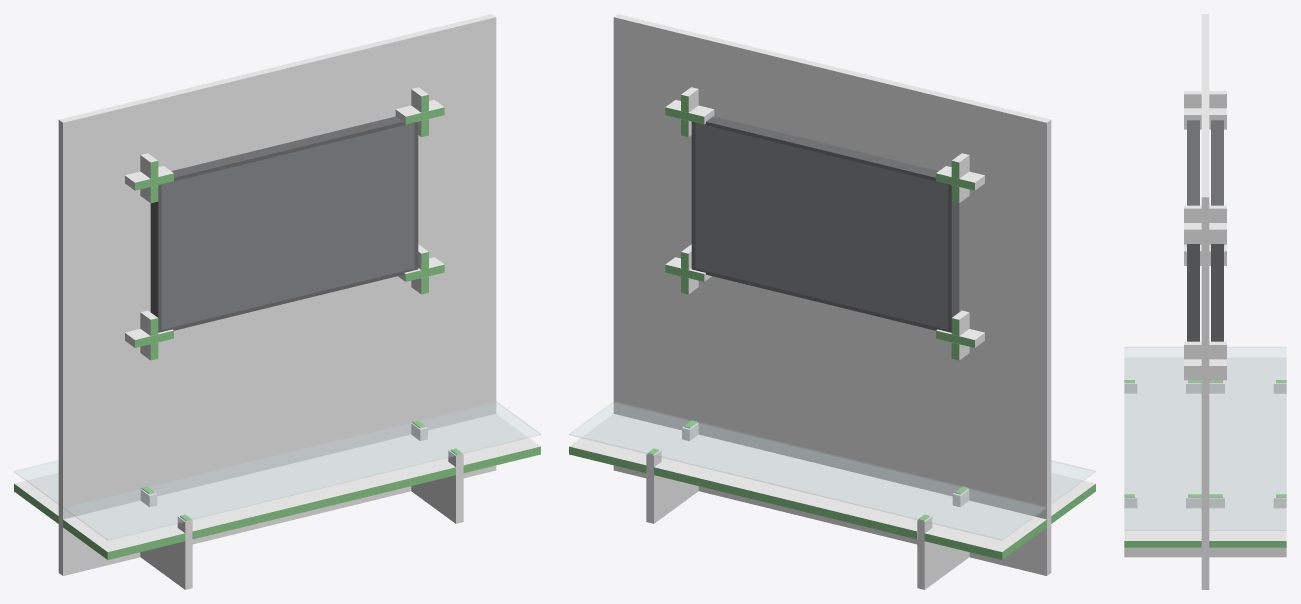
Rendered from 05-computer.glb.
3 renders of one model, left to right at view 1: azimuth 30°, elevation 25°; view 2: azimuth 150°, elevation 25°; view 3: azimuth 270°, elevation 25°, orthographic. The views are drawn at different scales.
Visible parts, largest first — view 1: 通高整板｜2000 × 2000 mm, 正面｜电子屏｜正面显示区, 前平台｜齐平插接, 前平台玻璃｜6 mm｜四处边槽, 正面｜电子屏占位｜1200 × 675 × 60 mm, 右横撑｜半搭槽, 左横撑｜半搭槽, 后平台｜齐平插接, 后平台玻璃｜6 mm｜四处边槽, 正面左上｜直横扣, 正面右上｜直横扣; view 2: 通高整板｜2000 × 2000 mm, 背面｜电子屏｜正面显示区, 后平台｜齐平插接, 后平台玻璃｜6 mm｜四处边槽, 背面｜电子屏占位｜1200 × 675 × 60 mm, 右横撑｜半搭槽, 左横撑｜半搭槽, 前平台｜齐平插接, 前平台玻璃｜6 mm｜四处边槽, 背面左上｜直横扣, 背面右上｜直横扣; view 3: 前平台｜齐平插接, 后平台｜齐平插接, 前平台玻璃｜6 mm｜四处边槽, 后平台玻璃｜6 mm｜四处边槽, 通高整板｜2000 × 2000 mm, 右横撑｜半搭槽, 正面｜电子屏占位｜1200 × 675 × 60 mm, 背面｜电子屏占位｜1200 × 675 × 60 mm, 右下｜双面贯穿竖榫, 右上｜双面贯穿竖榫, 左横撑｜半搭槽, 左上｜双面贯穿竖榫 (+6 smaller).
Boxes of the visible parts, <box> form: 通高整板｜2000 × 2000 mm: <box>58,14,496,575</box>; 正面｜电子屏｜正面显示区: <box>161,123,414,329</box>; 前平台｜齐平插接: <box>63,414,540,559</box>; 前平台玻璃｜6 mm｜四处边槽: <box>63,401,540,540</box>; 正面｜电子屏占位｜1200 × 675 × 60 mm: <box>150,116,418,332</box>; 右横撑｜半搭槽: <box>411,420,463,523</box>; 左横撑｜半搭槽: <box>140,486,192,589</box>; 后平台｜齐平插接: <box>14,473,58,523</box>; 后平台玻璃｜6 mm｜四处边槽: <box>14,460,58,504</box>; 正面左上｜直横扣: <box>125,166,173,190</box>; 正面右上｜直横扣: <box>395,100,444,124</box>; 通高整板｜2000 × 2000 mm: <box>613,14,1051,575</box>; 背面｜电子屏｜正面显示区: <box>695,123,948,329</box>; 后平台｜齐平插接: <box>569,414,1046,559</box>; 后平台玻璃｜6 mm｜四处边槽: <box>569,401,1046,540</box>; 背面｜电子屏占位｜1200 × 675 × 60 mm: <box>691,116,959,332</box>; 右横撑｜半搭槽: <box>646,420,698,523</box>; 左横撑｜半搭槽: <box>917,486,969,589</box>; 前平台｜齐平插接: <box>1051,473,1095,523</box>; 前平台玻璃｜6 mm｜四处边槽: <box>1051,460,1095,504</box>; 背面左上｜直横扣: <box>936,166,984,190</box>; 背面右上｜直横扣: <box>665,100,714,124</box>; 前平台｜齐平插接: <box>1124,357,1201,547</box>; 后平台｜齐平插接: <box>1209,357,1286,547</box>; 前平台玻璃｜6 mm｜四处边槽: <box>1124,347,1201,530</box>; 后平台玻璃｜6 mm｜四处边槽: <box>1209,347,1286,530</box>; 通高整板｜2000 × 2000 mm: <box>1201,14,1209,589</box>; 右横撑｜半搭槽: <box>1124,494,1286,557</box>; 正面｜电子屏占位｜1200 × 675 × 60 mm: <box>1187,120,1199,341</box>; 背面｜电子屏占位｜1200 × 675 × 60 mm: <box>1211,120,1223,341</box>; 右下｜双面贯穿竖榫: <box>1184,341,1226,380</box>; 右上｜双面贯穿竖榫: <box>1184,205,1226,243</box>; 左横撑｜半搭槽: <box>1124,380,1286,393</box>; 左上｜双面贯穿竖榫: <box>1184,91,1226,129</box>.
Size of the model in its own units: 2 by 2 by 0.75.
